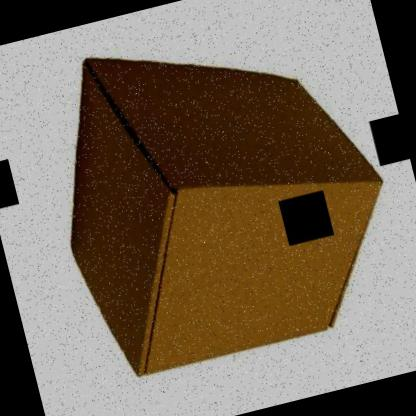box: (26, 0, 416, 392)
